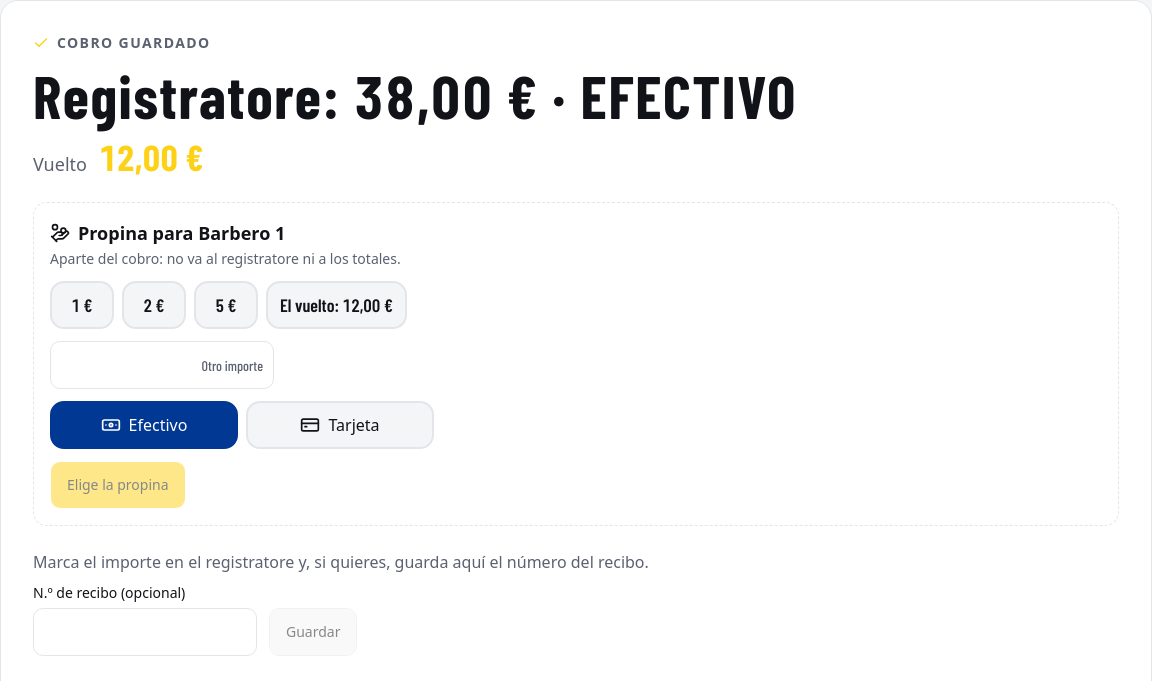
it: SaleDone › propina justo después de cobrar: "el vuelto" se guarda con la firma del cobro (sin volver a pedir el PIN) y el vuelto que se da baja a 0
Check: the element with test id "tip-section" shows "Propina para Barbero 1", box [78, 221, 285, 245]
Click the button with test id "tip-change". click: (336, 305)
box: [266, 281, 407, 329]
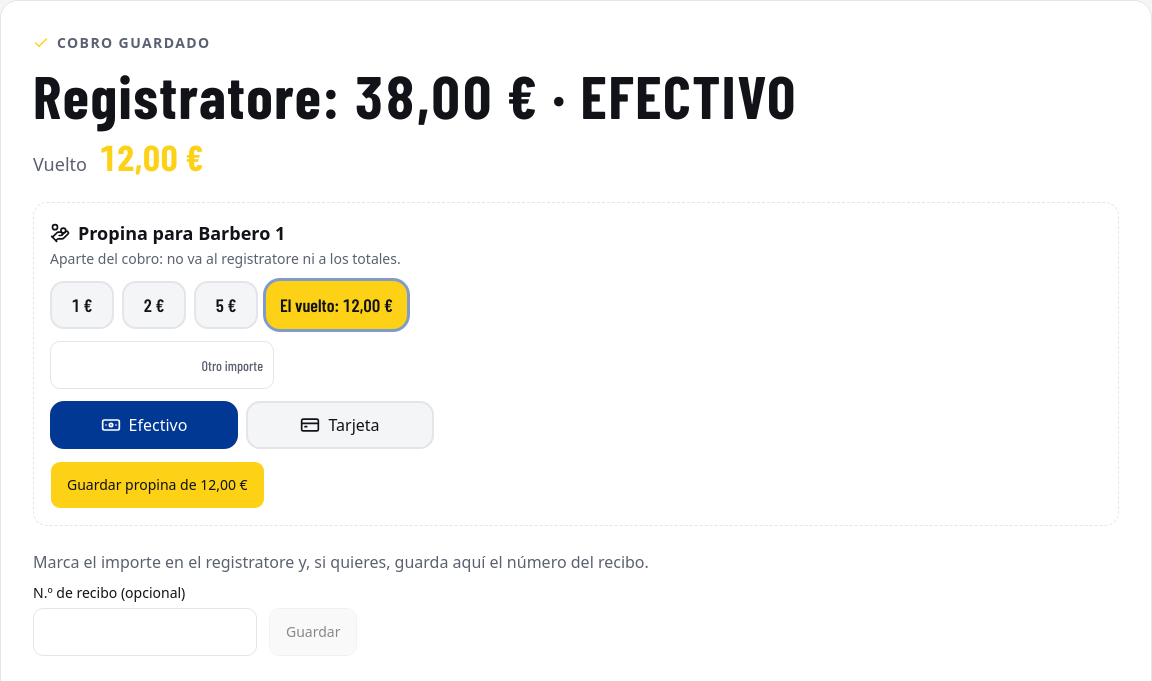
Click the button with test id "tip-save". click: (157, 485)
box: [50, 461, 265, 509]
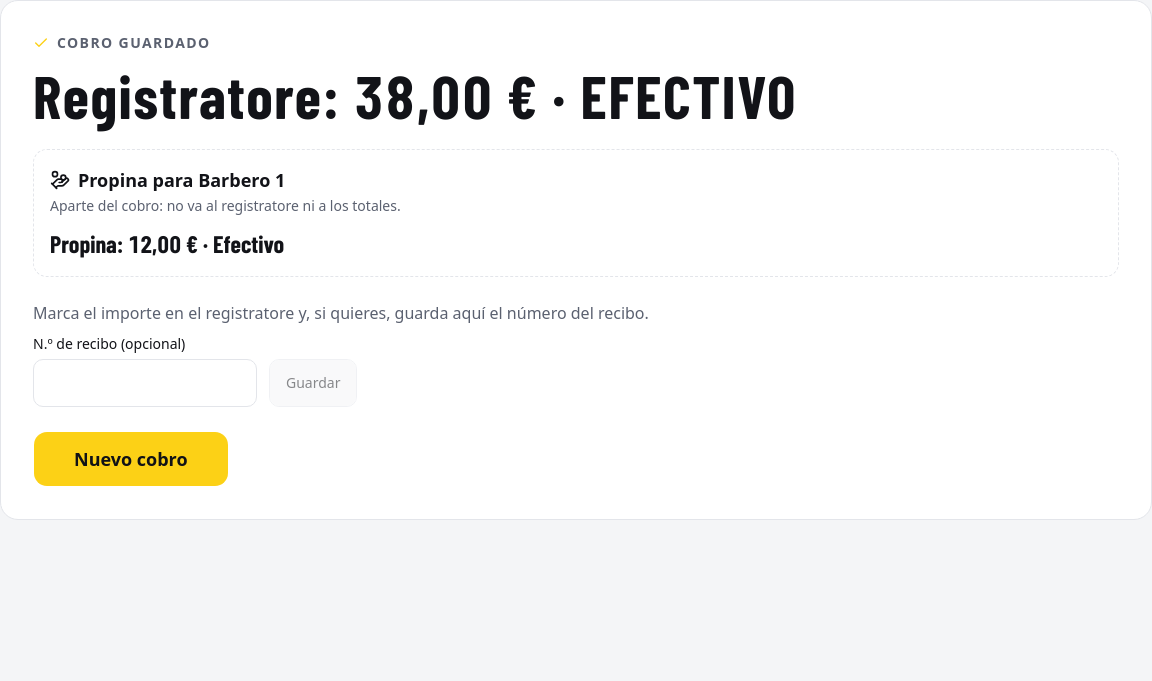
Check: the text with test id "sale-done-tip" reads "Propina: 12,00 € · Efectivo", box [50, 229, 284, 258]
Check: the text with test id "sale-done-change" is gone
Check: the form with test id "tip-form" is gone
